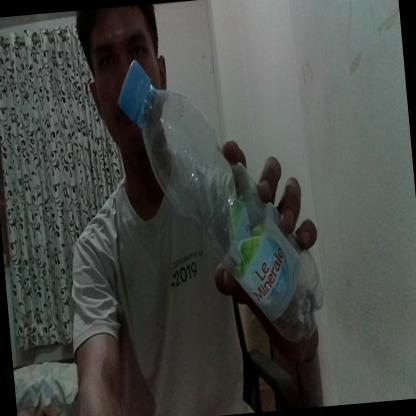plastic_bottles: (113, 41, 327, 358)
